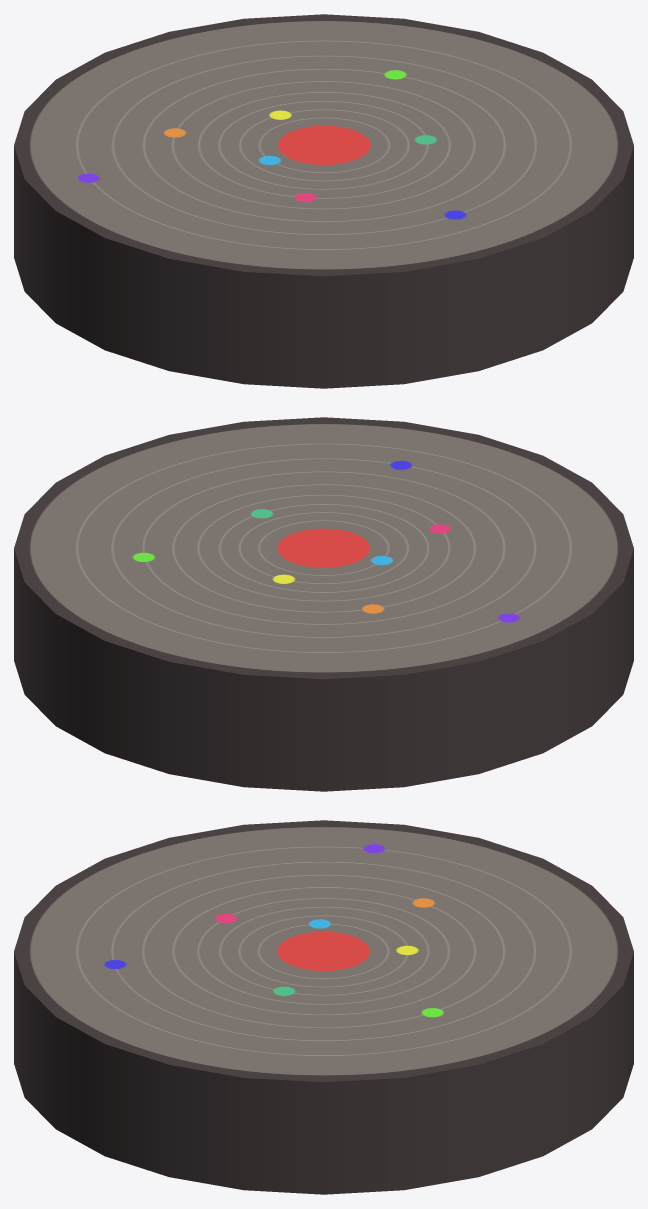
Rendered from Lift.fbx.
3 renders of one model, top to bottom at view 1: azimuth 30°, elevation 25°; view 2: azimuth 150°, elevation 25°; view 3: azimuth 270°, elevation 25°, orthographic.
Visible parts, largest first — view 1: Cylinder003; view 2: Cylinder003; view 3: Cylinder003.
Boxes of the visible parts, x1,y1,x2,y2 form: Cylinder003: (14,14,633,388); Cylinder003: (14,417,633,791); Cylinder003: (14,820,633,1194).
Bounding box in the file's own units: 200 × 40 × 200.
